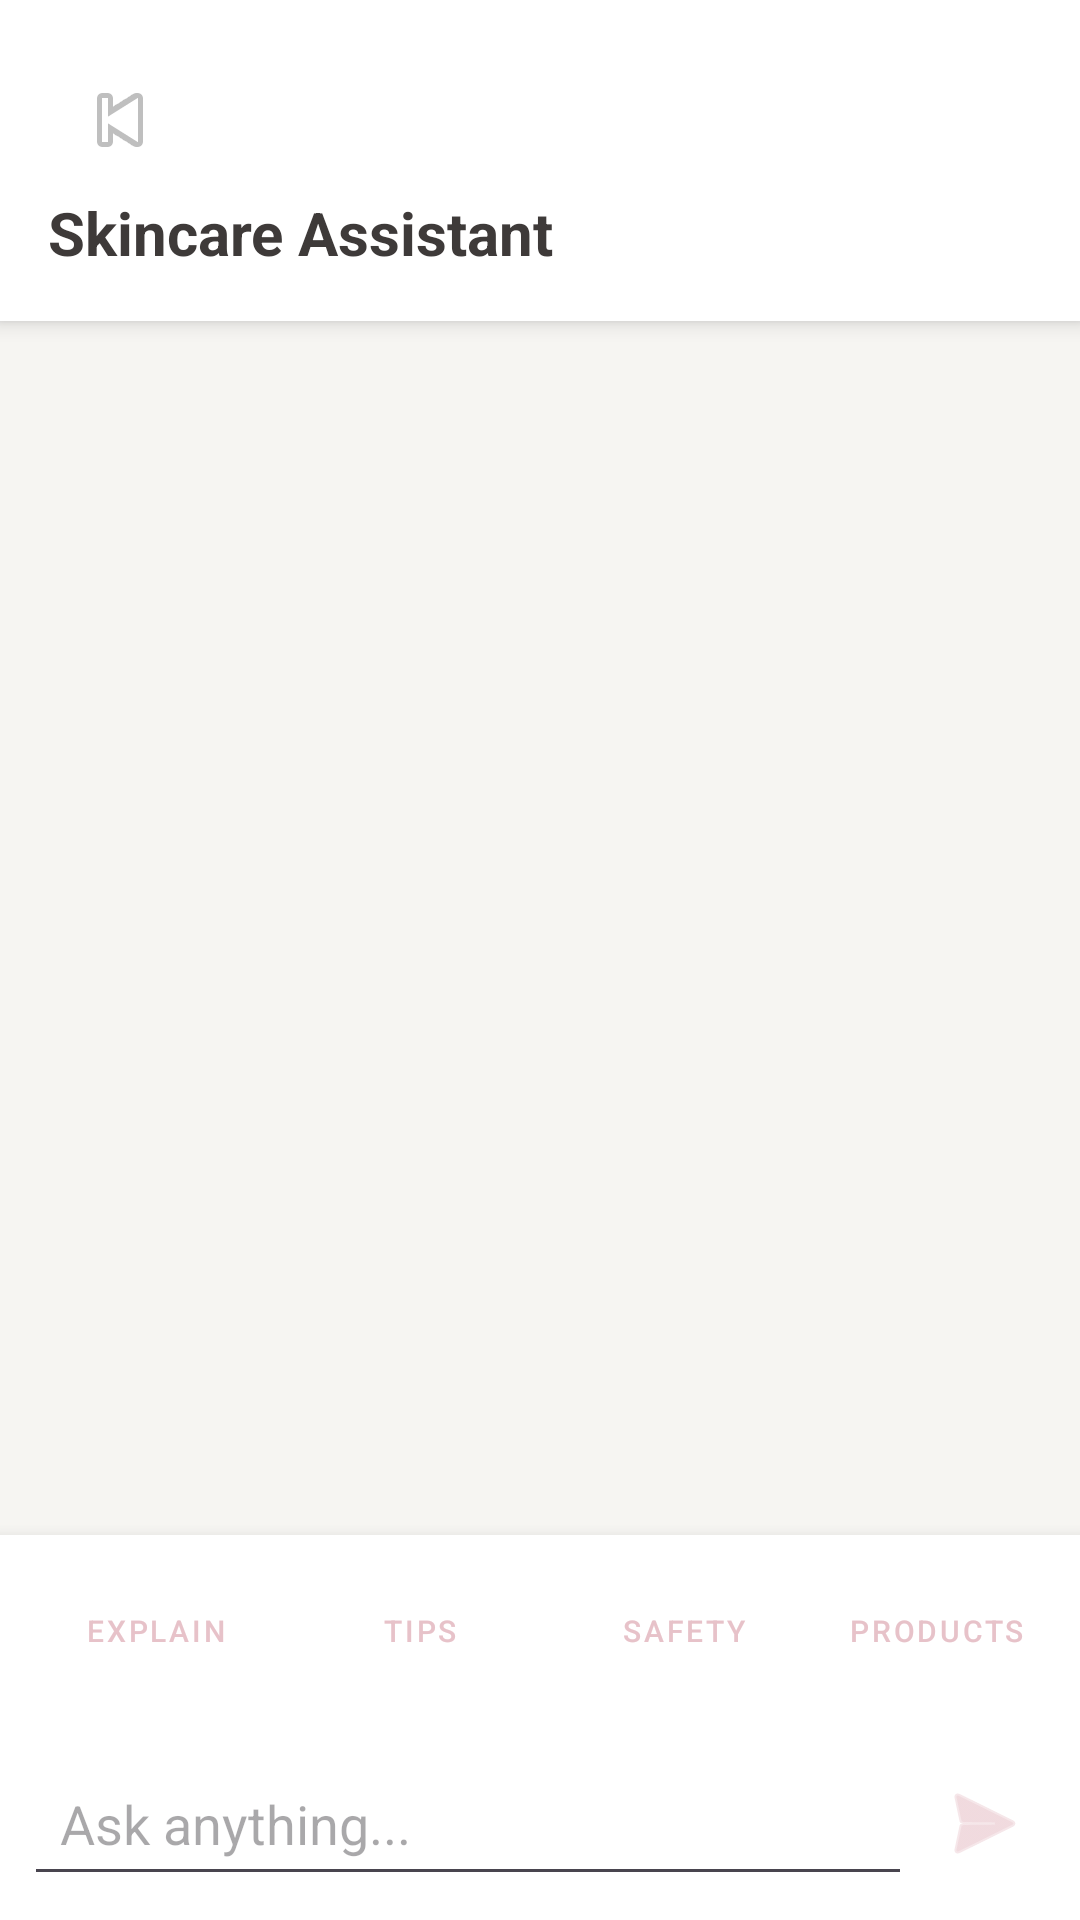

Named icons in this screenshot (1080 × 1920) and their centers, (x=x, y=y):
send: (x=985, y=1823)
